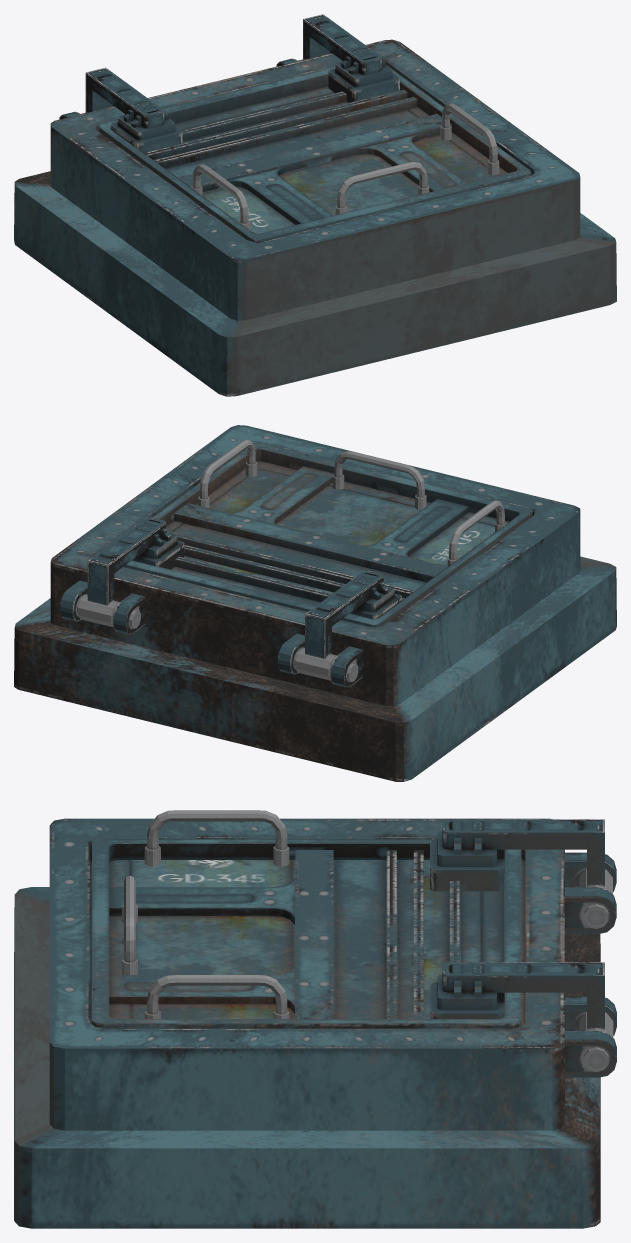
The model's file is bunker_entrance_01.fbx.
The picture shows the model from 3 angles, top to bottom: view 1: azimuth 30°, elevation 25°; view 2: azimuth 150°, elevation 25°; view 3: azimuth 270°, elevation 25°; orthographic projection. The views are drawn at different scales.
Parts seen in each view (by area): view 1: entrance_frame, entrance_door; view 2: entrance_frame, entrance_door; view 3: entrance_frame, entrance_door.
Part boxes in pixels (left/top/right/bottom): entrance_frame: left=14, top=39, right=616, bottom=396; entrance_door: left=81, top=14, right=531, bottom=241; entrance_frame: left=14, top=425, right=616, bottom=781; entrance_door: left=60, top=440, right=532, bottom=681; entrance_frame: left=14, top=818, right=616, bottom=1228; entrance_door: left=92, top=810, right=613, bottom=1072.
Bounding box in the file's own units: 12.73 × 4.81 × 12.38.
